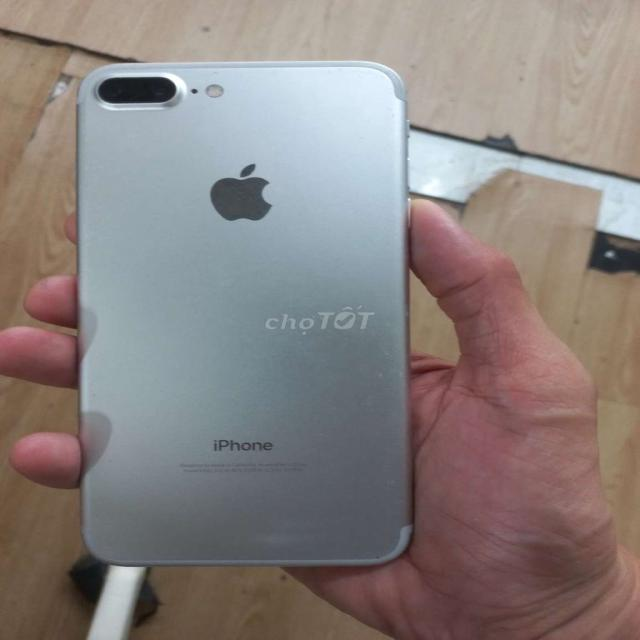gen_7_8: (76, 62, 412, 565)
scratch: (372, 439, 422, 531), (364, 340, 409, 402), (237, 534, 341, 560), (314, 61, 386, 86), (385, 114, 422, 135), (313, 399, 342, 421), (190, 65, 232, 80), (372, 550, 394, 569)
